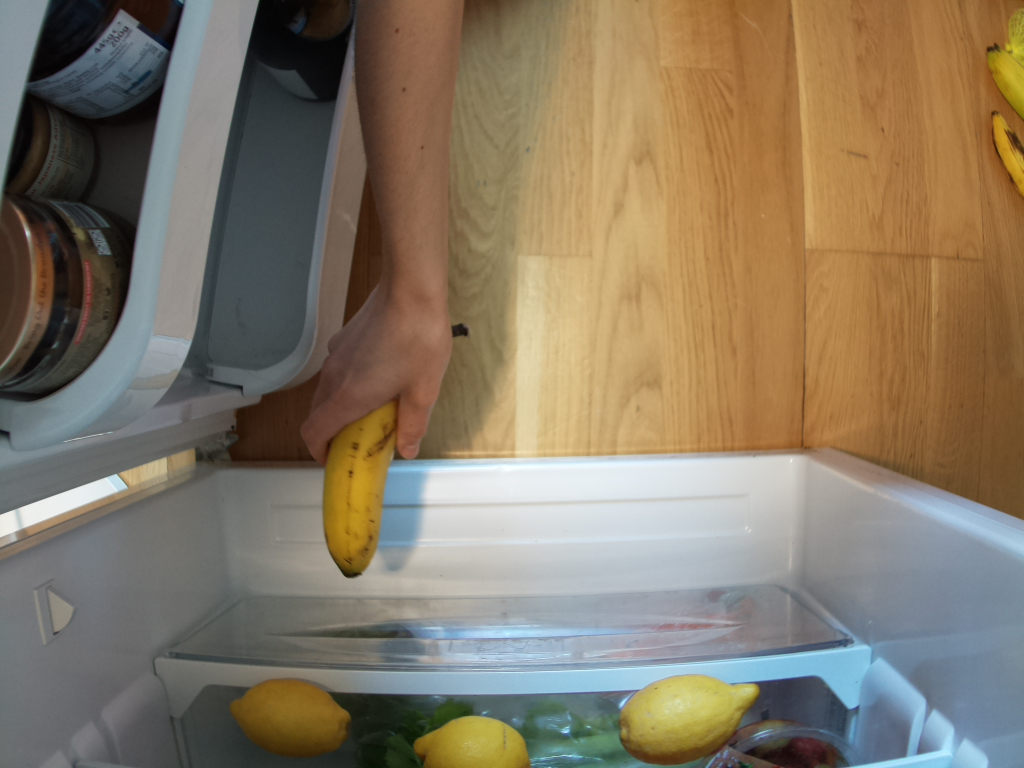banana: (322, 398, 410, 580)
